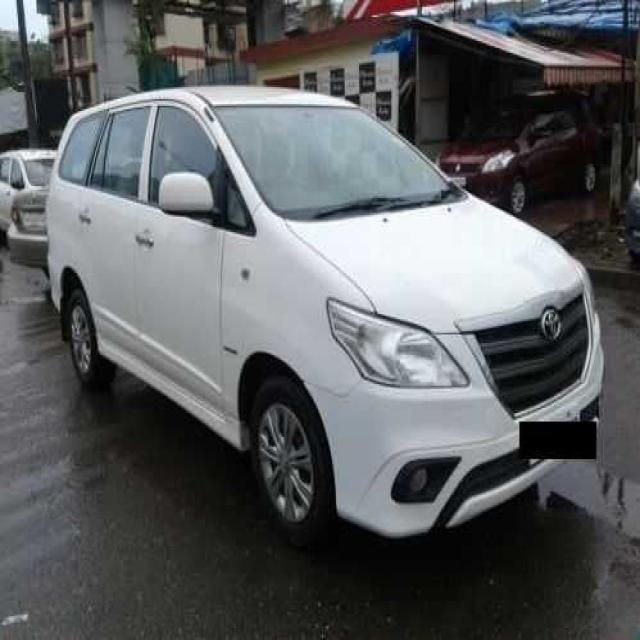light_vehicle: (43, 85, 605, 552)
